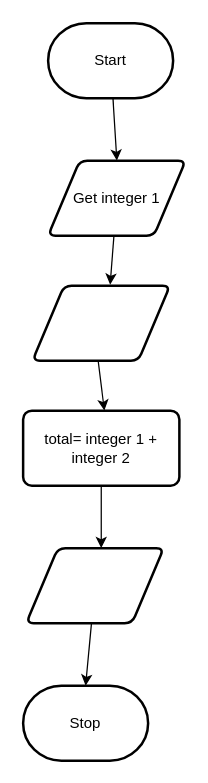
The diagram is 208 pixels wide and 783 high, and some of its shapes have lost their labels. The centre of each missing label's shape, as x and y in pixels:
"Get integer 2" goes at [101,322].
"Show total" goes at [94,585].
